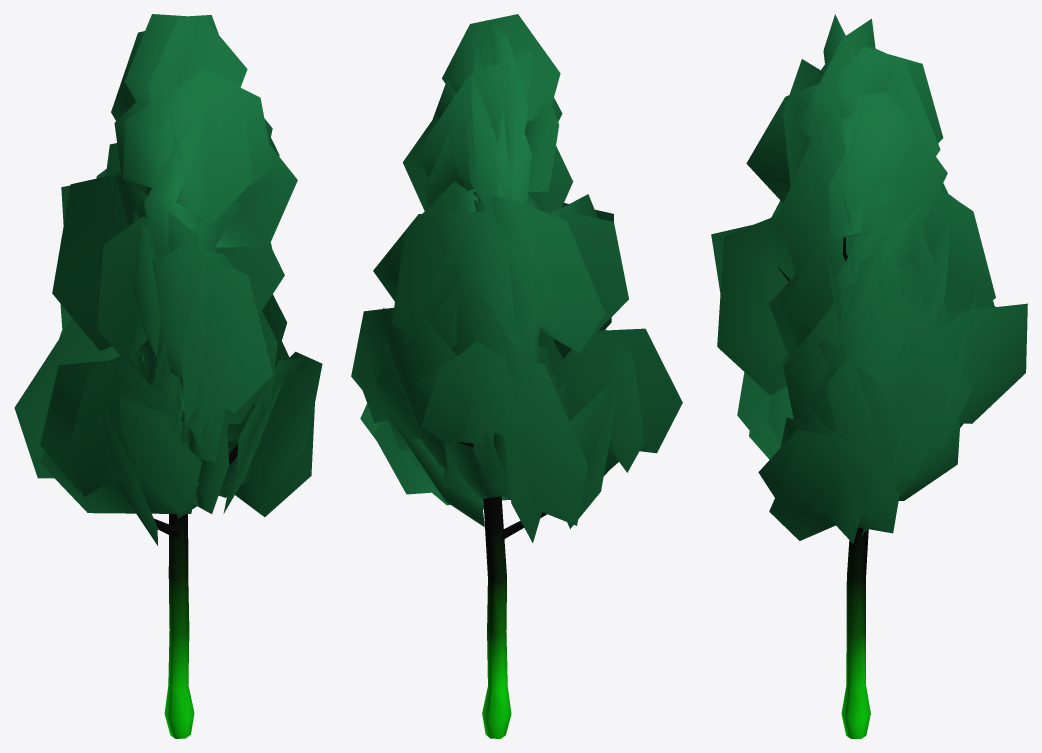
File: SM_BirchSapling2.fbx
3 views of the same model, side by side, from view 1: azimuth 30°, elevation 25°; view 2: azimuth 150°, elevation 25°; view 3: azimuth 270°, elevation 25° (orthographic).
Visible parts, largest first — view 1: SM_BirchSapling2_LOD0; view 2: SM_BirchSapling2_LOD0; view 3: SM_BirchSapling2_LOD0.
Boxes of the visible parts, x1=… form: SM_BirchSapling2_LOD0: x1=14, y1=14, x2=322, y2=738; SM_BirchSapling2_LOD0: x1=351, y1=14, x2=682, y2=738; SM_BirchSapling2_LOD0: x1=711, y1=14, x2=1027, y2=738.
Size of what is drawn, in the model's own units: 450 by 1093 by 438.
